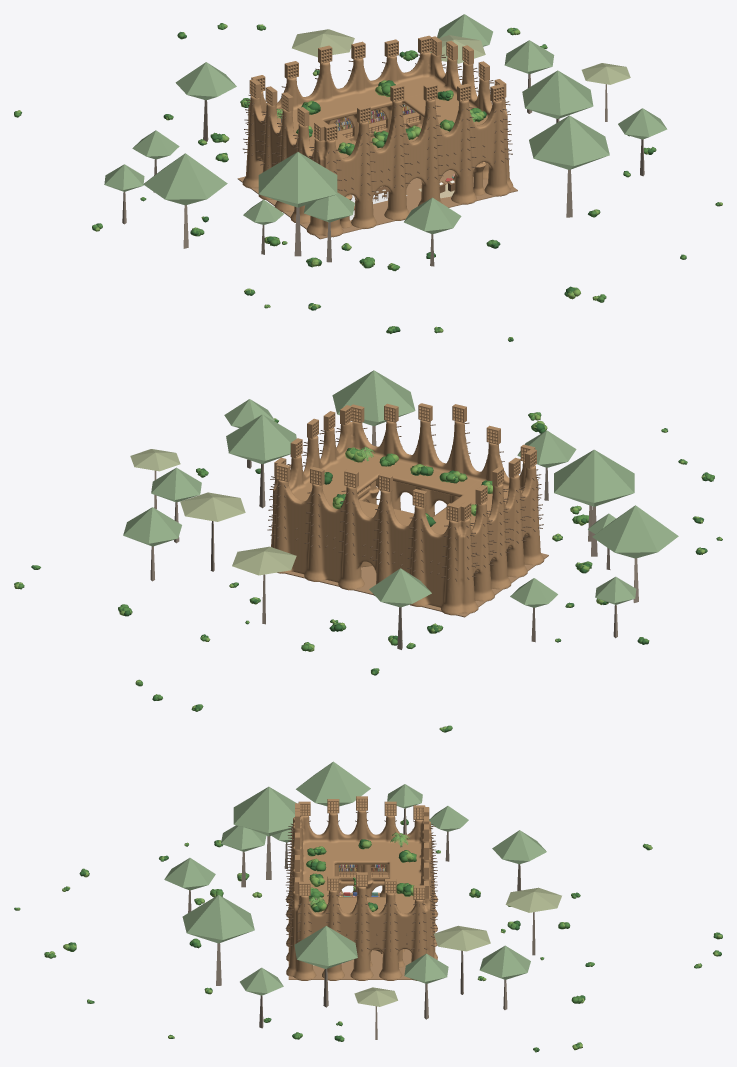
The model's file is maison-terre.glb.
The picture shows the model from 3 angles, top to bottom: view 1: azimuth 30°, elevation 25°; view 2: azimuth 150°, elevation 25°; view 3: azimuth 270°, elevation 25°; orthographic projection. The views are drawn at different scales.
Visible parts, largest first — view 1: Maison_Terre, Claustras, Plantes, Arbre_06, Arbre_12, Arbre_04, Arbre_01, Arbre_10, Dalle, Torons, Interieur_Terre, Arbre_15 (+10 smaller); view 2: Maison_Terre, Claustras, Plantes, Arbre_06, Arbre_04, Arbre_12, Arbre_01, Torons, Arbre_16, Arbre_10, Arbre_09, Arbre_05 (+7 smaller); view 3: Maison_Terre, Plantes, Claustras, Arbre_12, Arbre_06, Arbre_01, Arbre_04, Arbre_16, Torons, Arbre_09, Arbre_10, Arbre_05 (+9 smaller).
Boxes of the visible parts, x1,y1,x2,y2 form: Maison_Terre: (242, 52, 513, 237); Claustras: (249, 35, 506, 141); Plantes: (14, 23, 722, 341); Arbre_06: (258, 152, 337, 256); Arbre_12: (529, 115, 609, 217); Arbre_04: (143, 153, 227, 248); Arbre_01: (522, 70, 593, 122); Arbre_10: (175, 62, 236, 141); Dalle: (237, 170, 517, 239); Torons: (243, 54, 512, 195); Interieur_Terre: (325, 103, 486, 228); Arbre_15: (404, 197, 461, 266); Maison_Terre: (271, 420, 544, 615); Claustras: (274, 403, 536, 521); Plantes: (14, 412, 722, 732); Arbre_06: (554, 449, 634, 556); Arbre_04: (592, 505, 678, 602); Arbre_12: (332, 370, 415, 446); Arbre_01: (226, 414, 296, 508); Torons: (267, 422, 543, 581); Arbre_16: (123, 507, 181, 581); Arbre_10: (369, 568, 431, 649); Arbre_09: (180, 492, 245, 571); Arbre_05: (232, 546, 296, 624); Maison_Terre: (286, 810, 437, 980); Plantes: (14, 819, 722, 1052); Claustras: (295, 796, 429, 899); Arbre_12: (182, 895, 254, 985); Arbre_06: (233, 786, 296, 879); Arbre_01: (294, 926, 357, 1007); Arbre_04: (296, 761, 370, 806); Arbre_16: (479, 945, 530, 1009); Torons: (285, 812, 438, 951); Arbre_09: (434, 925, 490, 994); Arbre_10: (492, 830, 546, 890); Arbre_05: (505, 887, 561, 955).
Size of the model in its own units: 76.01 by 17.95 by 98.95.
